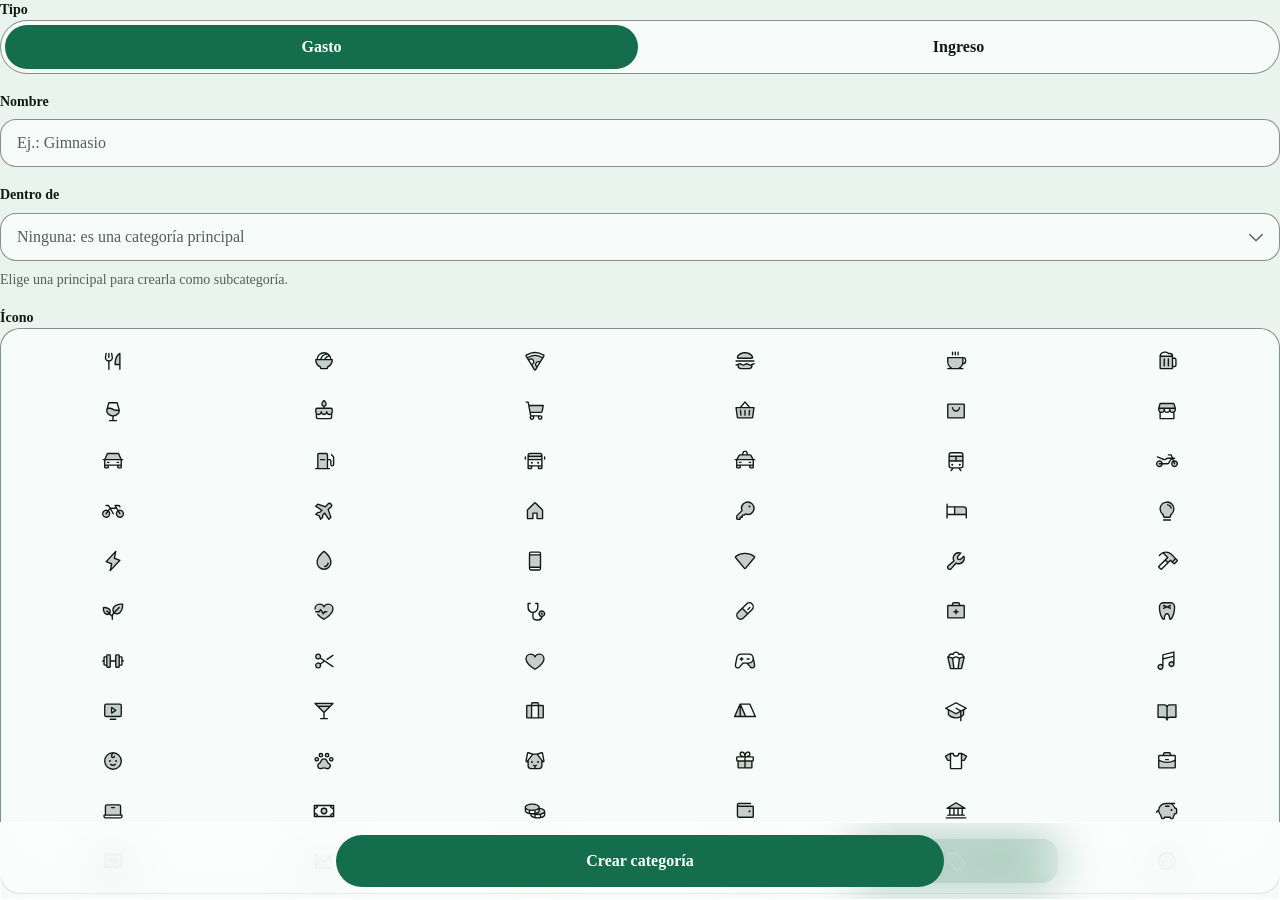
a repeated name (409 category_name_taken) › finds the archived sibling among the subcategories of the same principal only
The width and height of the screenshot is (1280, 900).
Type "Veterinaria" into the field labelled "Nombre".
click(640, 143); type("Veterinaria")  # box [0,119,1279,167]
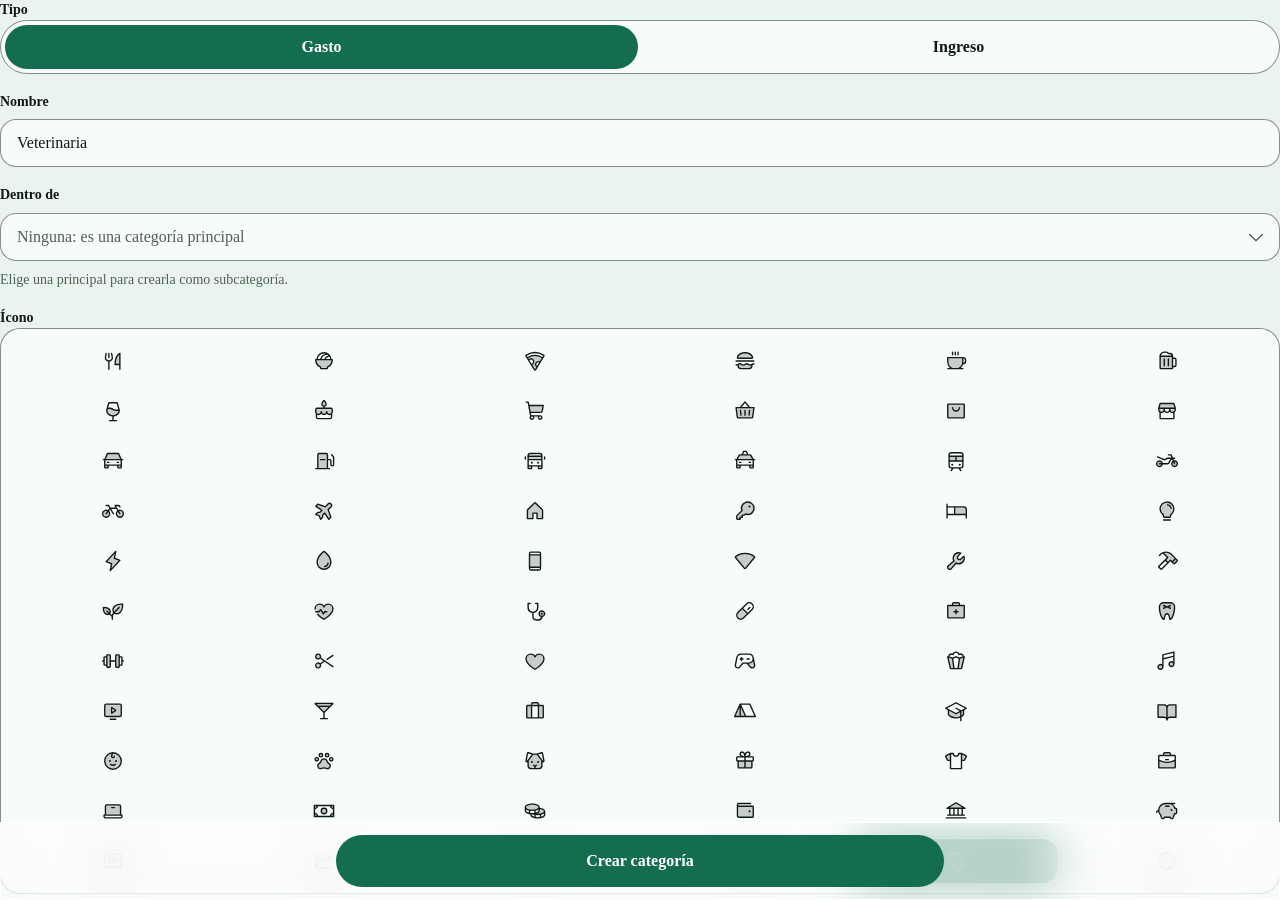
Select "Comida" in the dropdown labelled "Dentro de" at (640, 236), box [0,212,1279,260]
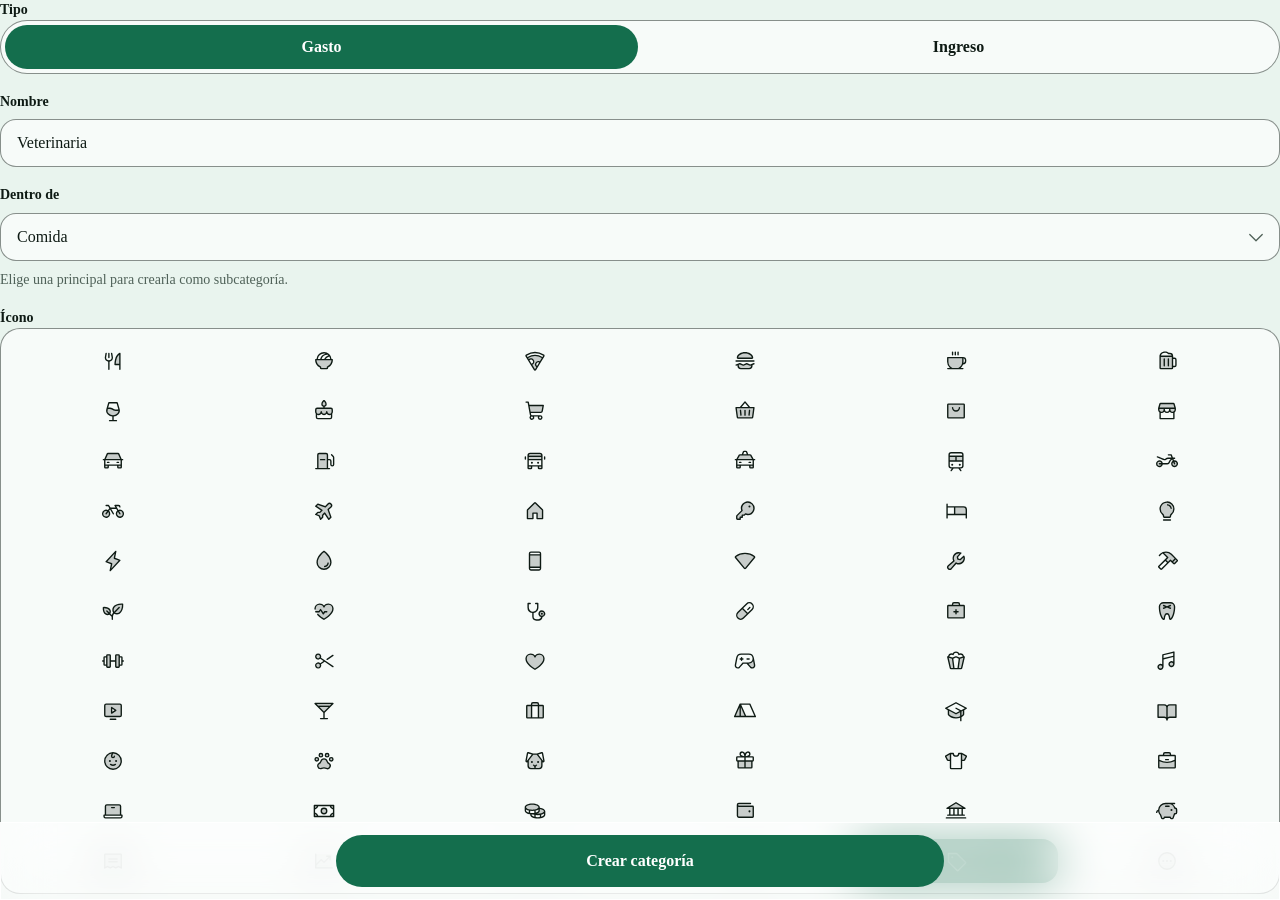
Click the button "Crear categoría".
click(640, 861)  # box [336,835,944,887]
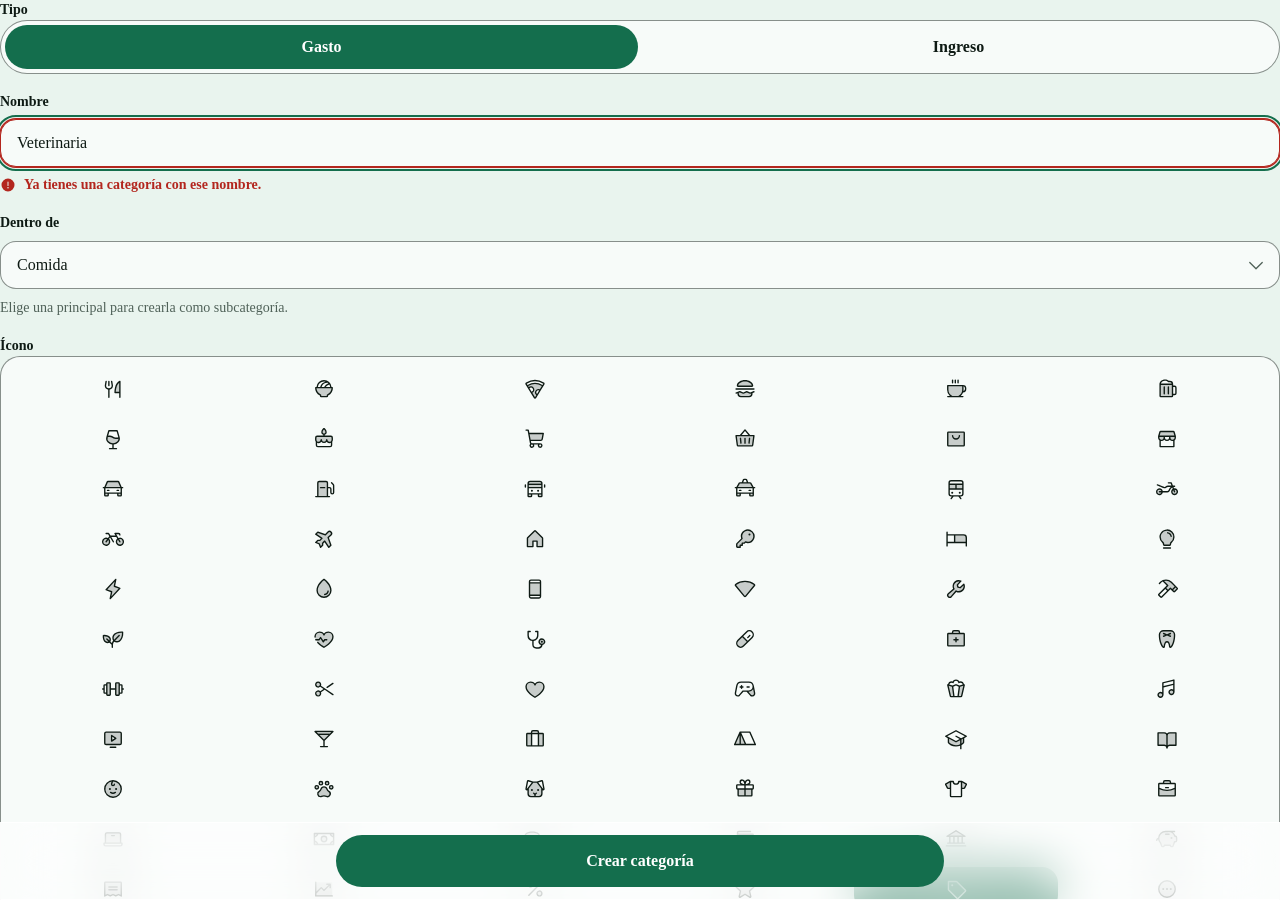
expect the text "Ya tienes una categoría con ese nombre." is shown: met, box [24,175,261,195]
